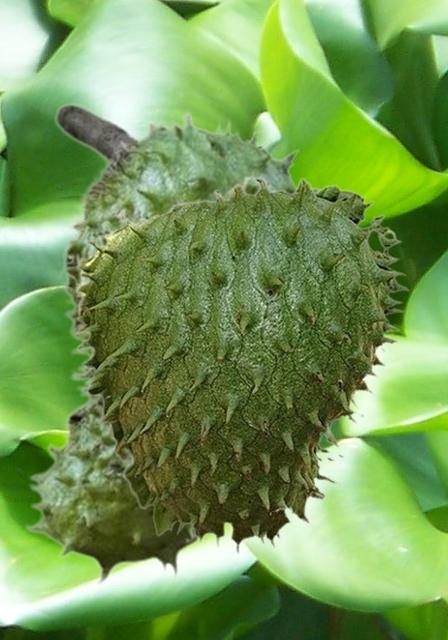guyabano: (23, 102, 320, 586), (75, 174, 409, 555)
